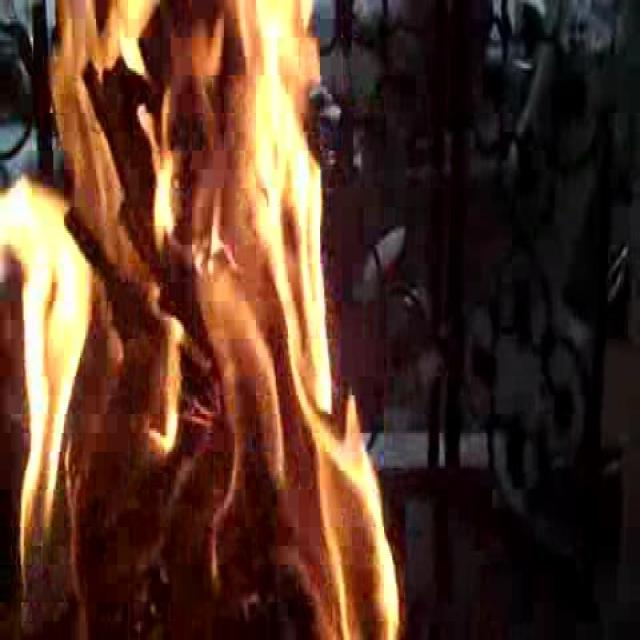fire: (31, 4, 385, 632)
